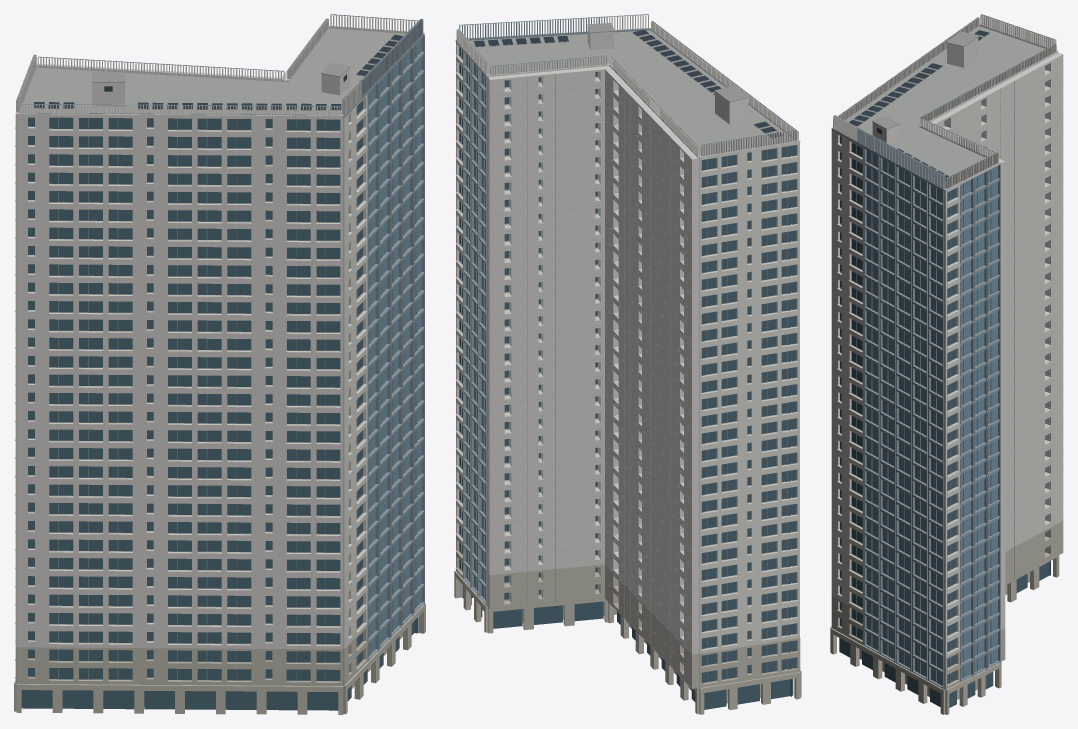
Rendered from bespoke-maple-xi-106.glb.
The picture shows the model from 3 angles, left to right: view 1: azimuth 30°, elevation 25°; view 2: azimuth 150°, elevation 25°; view 3: azimuth 270°, elevation 25°; orthographic projection. The views are drawn at different scales.
Visible parts, largest first — view 1: Maple106_numbered_plan_inset_body, Maple106_e0_end_glass, Maple106_e0_end_unequal_sash, Maple106_e3_dark_glass, Maple106_recessed_stone_lobby, Maple106_numbered_plan_roof, Maple106_PV_cells, Maple106_e1_cladding_joint; view 2: Maple106_numbered_plan_inset_body, Maple106_e0_end_glass, Maple106_e0_end_unequal_sash, Maple106_recessed_stone_lobby, Maple106_numbered_plan_roof, Maple106_e1_cladding_joint, Maple106_e3_dark_glass, Maple106_PV_cells; view 3: Maple106_numbered_plan_inset_body, Maple106_e0_end_unequal_sash, Maple106_e3_dark_glass, Maple106_e0_end_glass, Maple106_numbered_plan_roof, Maple106_recessed_stone_lobby, Maple106_e1_cladding_joint, Maple106_PV_cells.
Part boxes in pixels (box(x1,y1,x2,y2)): Maple106_numbered_plan_inset_body: box(14, 14, 421, 681); Maple106_e0_end_glass: box(21, 55, 418, 710); Maple106_e0_end_unequal_sash: box(17, 14, 424, 680); Maple106_e3_dark_glass: box(368, 39, 421, 655); Maple106_recessed_stone_lobby: box(14, 566, 425, 714); Maple106_numbered_plan_roof: box(19, 28, 405, 114); Maple106_PV_cells: box(34, 34, 403, 109); Maple106_e1_cladding_joint: box(92, 62, 414, 660); Maple106_numbered_plan_inset_body: box(455, 14, 800, 682); Maple106_e0_end_glass: box(459, 47, 796, 709); Maple106_e0_end_unequal_sash: box(458, 14, 797, 682); Maple106_recessed_stone_lobby: box(454, 537, 801, 714); Maple106_numbered_plan_roof: box(470, 30, 795, 155); Maple106_e1_cladding_joint: box(490, 23, 748, 687); Maple106_e3_dark_glass: box(458, 54, 485, 599); Maple106_PV_cells: box(474, 29, 782, 137); Maple106_numbered_plan_inset_body: box(831, 14, 1063, 669); Maple106_e0_end_unequal_sash: box(831, 14, 1055, 689); Maple106_e3_dark_glass: box(866, 150, 997, 685); Maple106_e0_end_glass: box(839, 136, 1050, 707); Maple106_numbered_plan_roof: box(846, 26, 1044, 188); Maple106_recessed_stone_lobby: box(830, 521, 1063, 714); Maple106_e1_cladding_joint: box(865, 31, 1062, 687); Maple106_PV_cells: box(849, 30, 989, 180).
Size of the model in its own units: 69.79 by 106 by 41.14.
